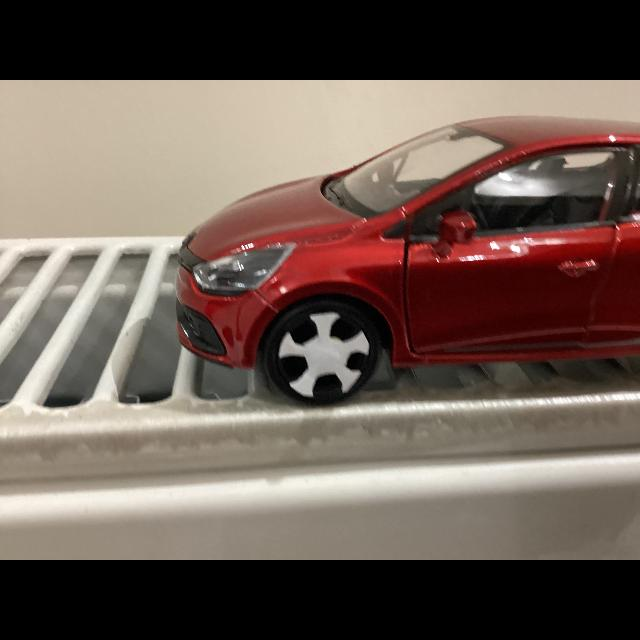Yanlis_Jant: (276, 310, 370, 400)
